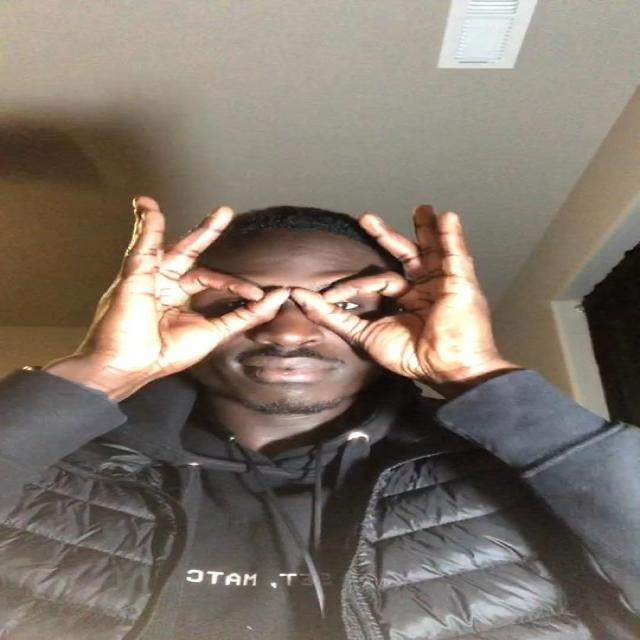face: (176, 231, 409, 415)
